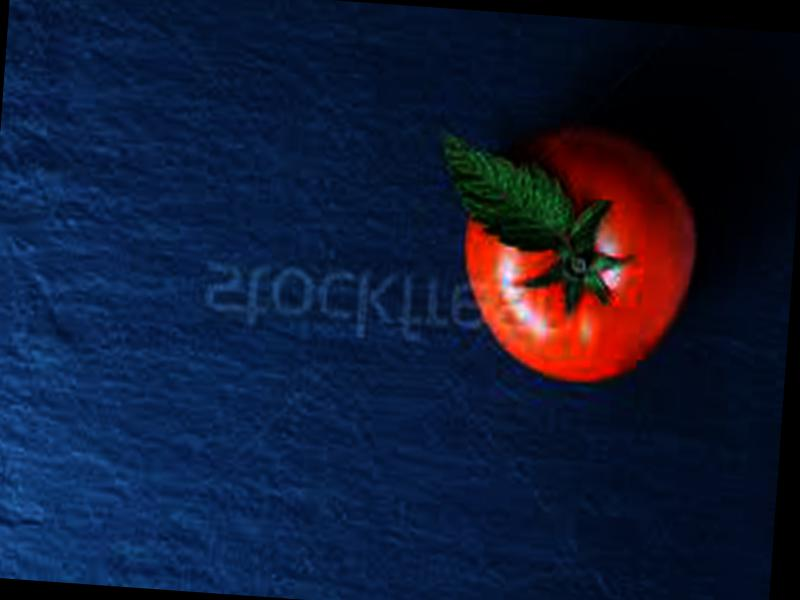Tomato: (453, 121, 703, 389)
